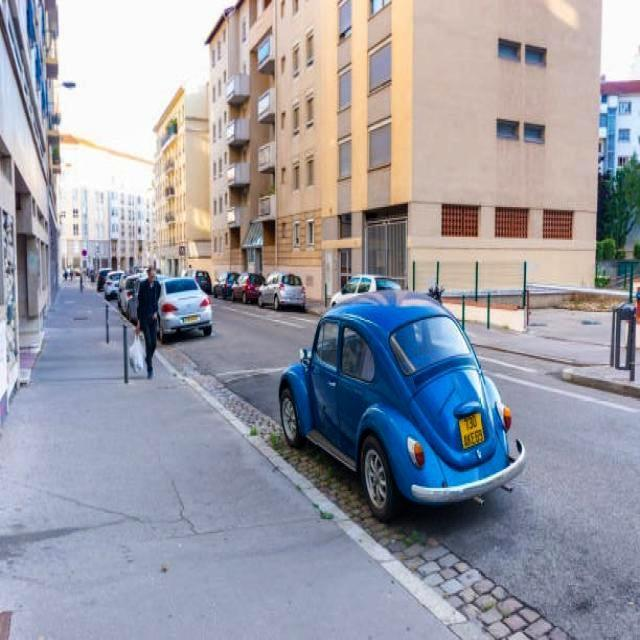car: (274, 290, 522, 510), (155, 275, 213, 334), (254, 274, 309, 311)
